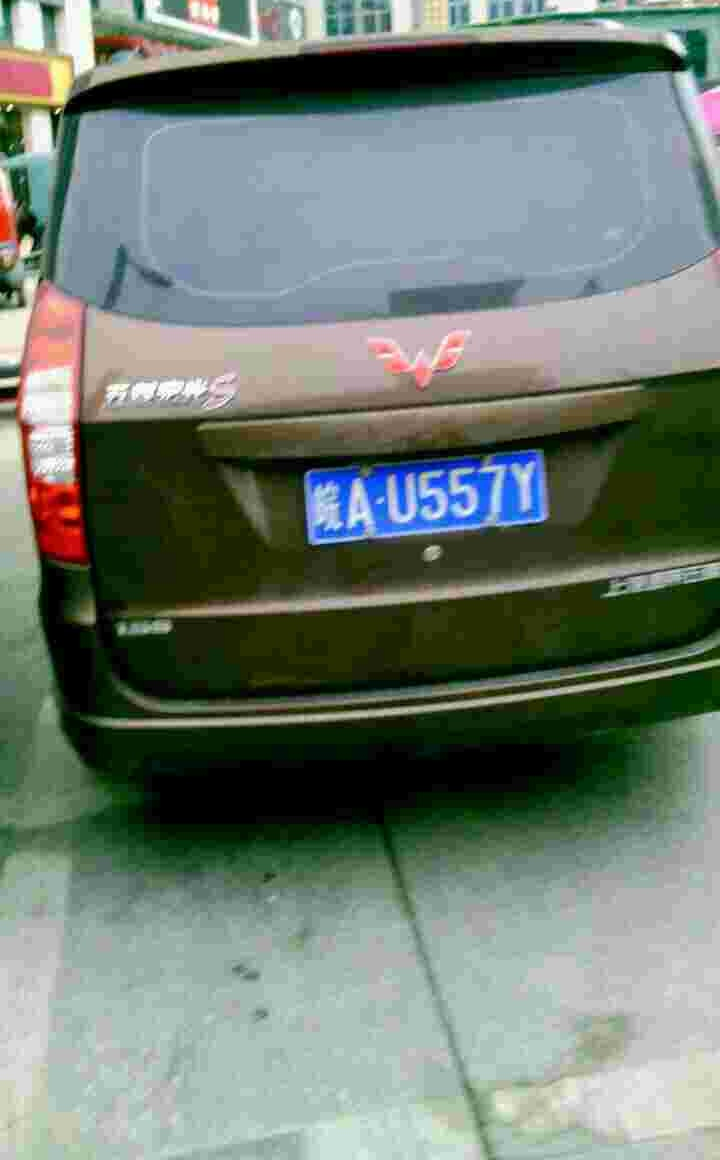plate: (309, 444, 550, 548)
